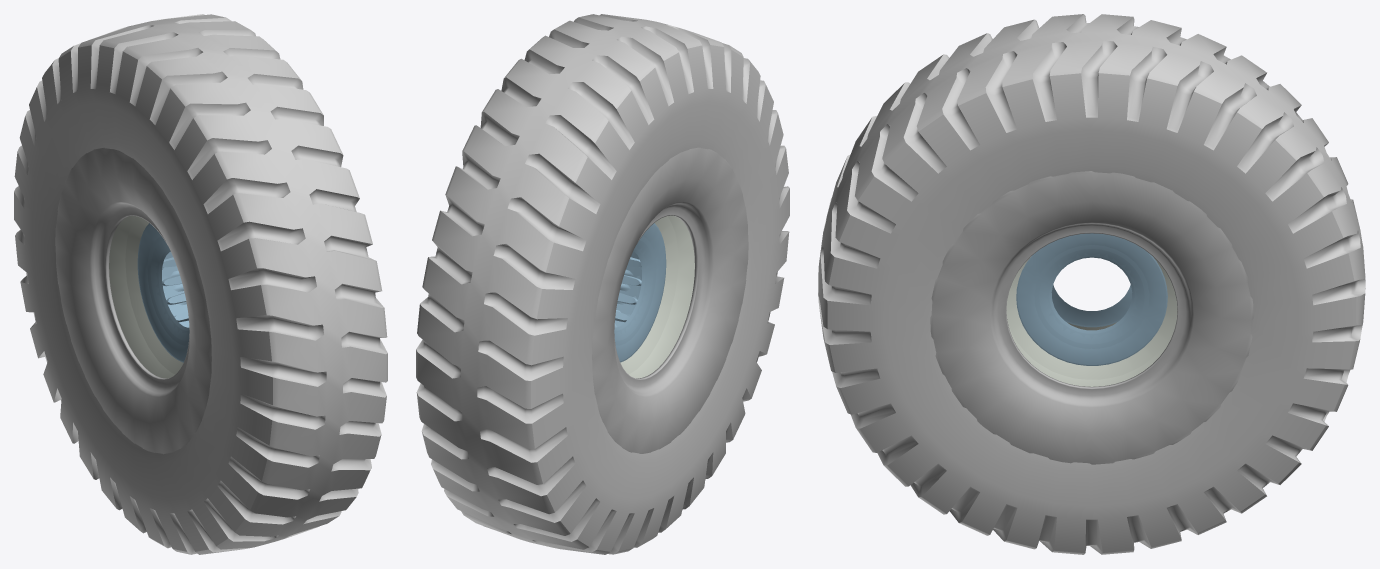
Rendered from G_goliath_tires 3.dae.
The picture shows the model from 3 angles, left to right: view 1: azimuth 30°, elevation 25°; view 2: azimuth 150°, elevation 25°; view 3: azimuth 270°, elevation 25°; orthographic projection. The views are drawn at different scales.
Parts seen in each view (by area): view 1: dumptruck_tire_prop, atcrane_tire_prop, G_tractor_tire_35x16_50, G_tractor_tire_35x13_30, G_goliath_tire_29_9_16_S, G_goliath_tire_29_9_16_XL, G_goliath_tire_29_9_16_alt_L, G_goliath_tire_29_9_16_alt_S; view 2: dumptruck_tire_prop, atcrane_tire_prop, G_tractor_tire_35x16_50, G_tractor_tire_35x13_30, G_goliath_tire_29_9_16_S, G_goliath_tire_29_9_16_XL, G_goliath_tire_29_9_16_alt_L, G_goliath_tire_29_9_16_alt_S; view 3: dumptruck_tire_prop, atcrane_tire_prop, G_goliath_tire_29_9_16_S, G_tractor_tire_35x13_30, G_goliath_tire_29_9_16_alt_L, G_goliath_tire_29_9_16_alt_S, G_goliath_tire_29_9_16_XL, G_tractor_tire_35x16_50, G_goliath_tire_29_9_16_L.
Part boxes in pixels (left/top/right/bottom): dumptruck_tire_prop: left=14, top=14, right=387, bottom=554; atcrane_tire_prop: left=55, top=147, right=211, bottom=454; G_tractor_tire_35x16_50: left=109, top=215, right=174, bottom=378; G_tractor_tire_35x13_30: left=125, top=216, right=183, bottom=374; G_goliath_tire_29_9_16_S: left=138, top=224, right=188, bottom=361; G_goliath_tire_29_9_16_XL: left=158, top=249, right=189, bottom=330; G_goliath_tire_29_9_16_alt_L: left=147, top=236, right=189, bottom=345; G_goliath_tire_29_9_16_alt_S: left=137, top=223, right=188, bottom=362; dumptruck_tire_prop: left=416, top=14, right=789, bottom=554; atcrane_tire_prop: left=592, top=147, right=748, bottom=453; G_tractor_tire_35x16_50: left=629, top=215, right=694, bottom=378; G_tractor_tire_35x13_30: left=620, top=216, right=678, bottom=374; G_goliath_tire_29_9_16_S: left=615, top=224, right=665, bottom=361; G_goliath_tire_29_9_16_XL: left=614, top=249, right=645, bottom=330; G_goliath_tire_29_9_16_alt_L: left=614, top=236, right=656, bottom=345; G_goliath_tire_29_9_16_alt_S: left=615, top=223, right=666, bottom=362; dumptruck_tire_prop: left=818, top=14, right=1365, bottom=554; atcrane_tire_prop: left=930, top=171, right=1253, bottom=464; G_goliath_tire_29_9_16_S: left=1017, top=233, right=1166, bottom=364; G_tractor_tire_35x13_30: left=1006, top=256, right=1177, bottom=379; G_goliath_tire_29_9_16_alt_L: left=1034, top=244, right=1149, bottom=349; G_goliath_tire_29_9_16_alt_S: left=1016, top=245, right=1167, bottom=365; G_goliath_tire_29_9_16_XL: left=1049, top=256, right=1134, bottom=333; G_tractor_tire_35x16_50: left=1008, top=326, right=1175, bottom=386; G_goliath_tire_29_9_16_L: left=1044, top=253, right=1139, bottom=339.
Bounding box in the file's own units: 0.6643 × 2.25 × 2.25.
